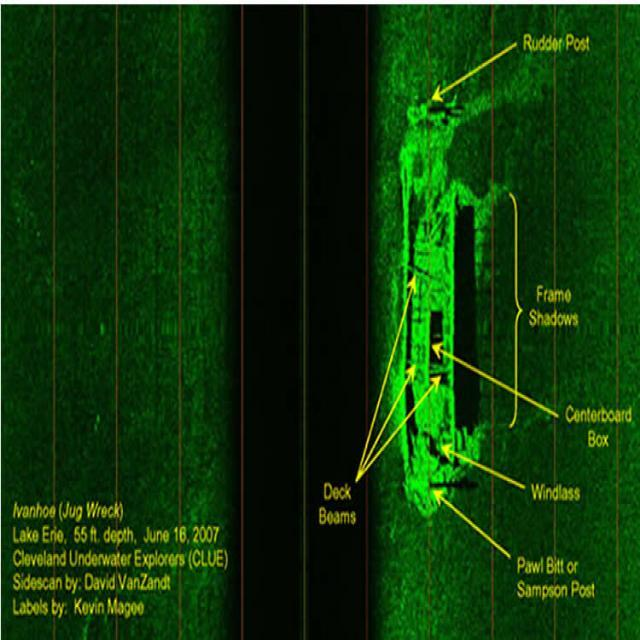shipwreck: (392, 90, 492, 523)
